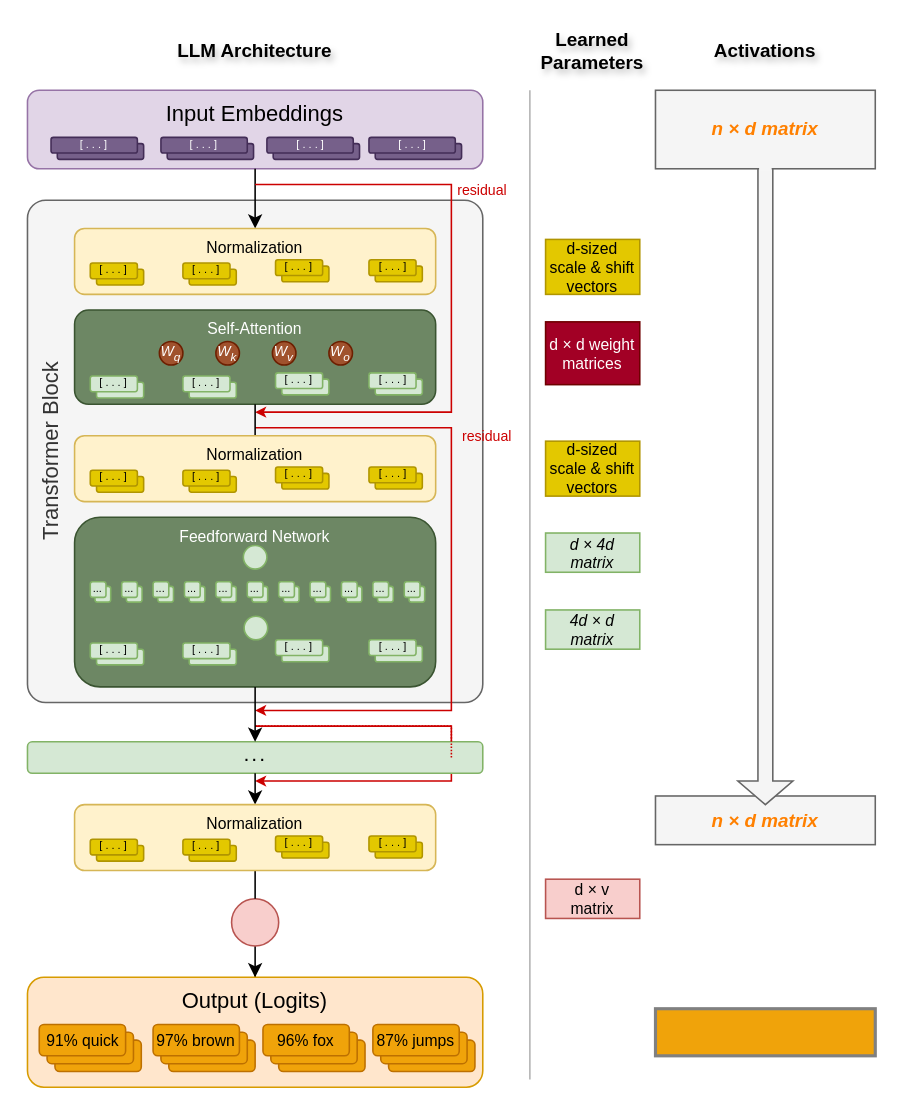
The diagram is 904 pixels wide and 1115 high, and some of its shapes have lost their labels. Here are the shapes that lost their labels. From the top down, the centre of each, then its label:
At (254,921): "W out".
At (764,1031): "n × v matrix".
